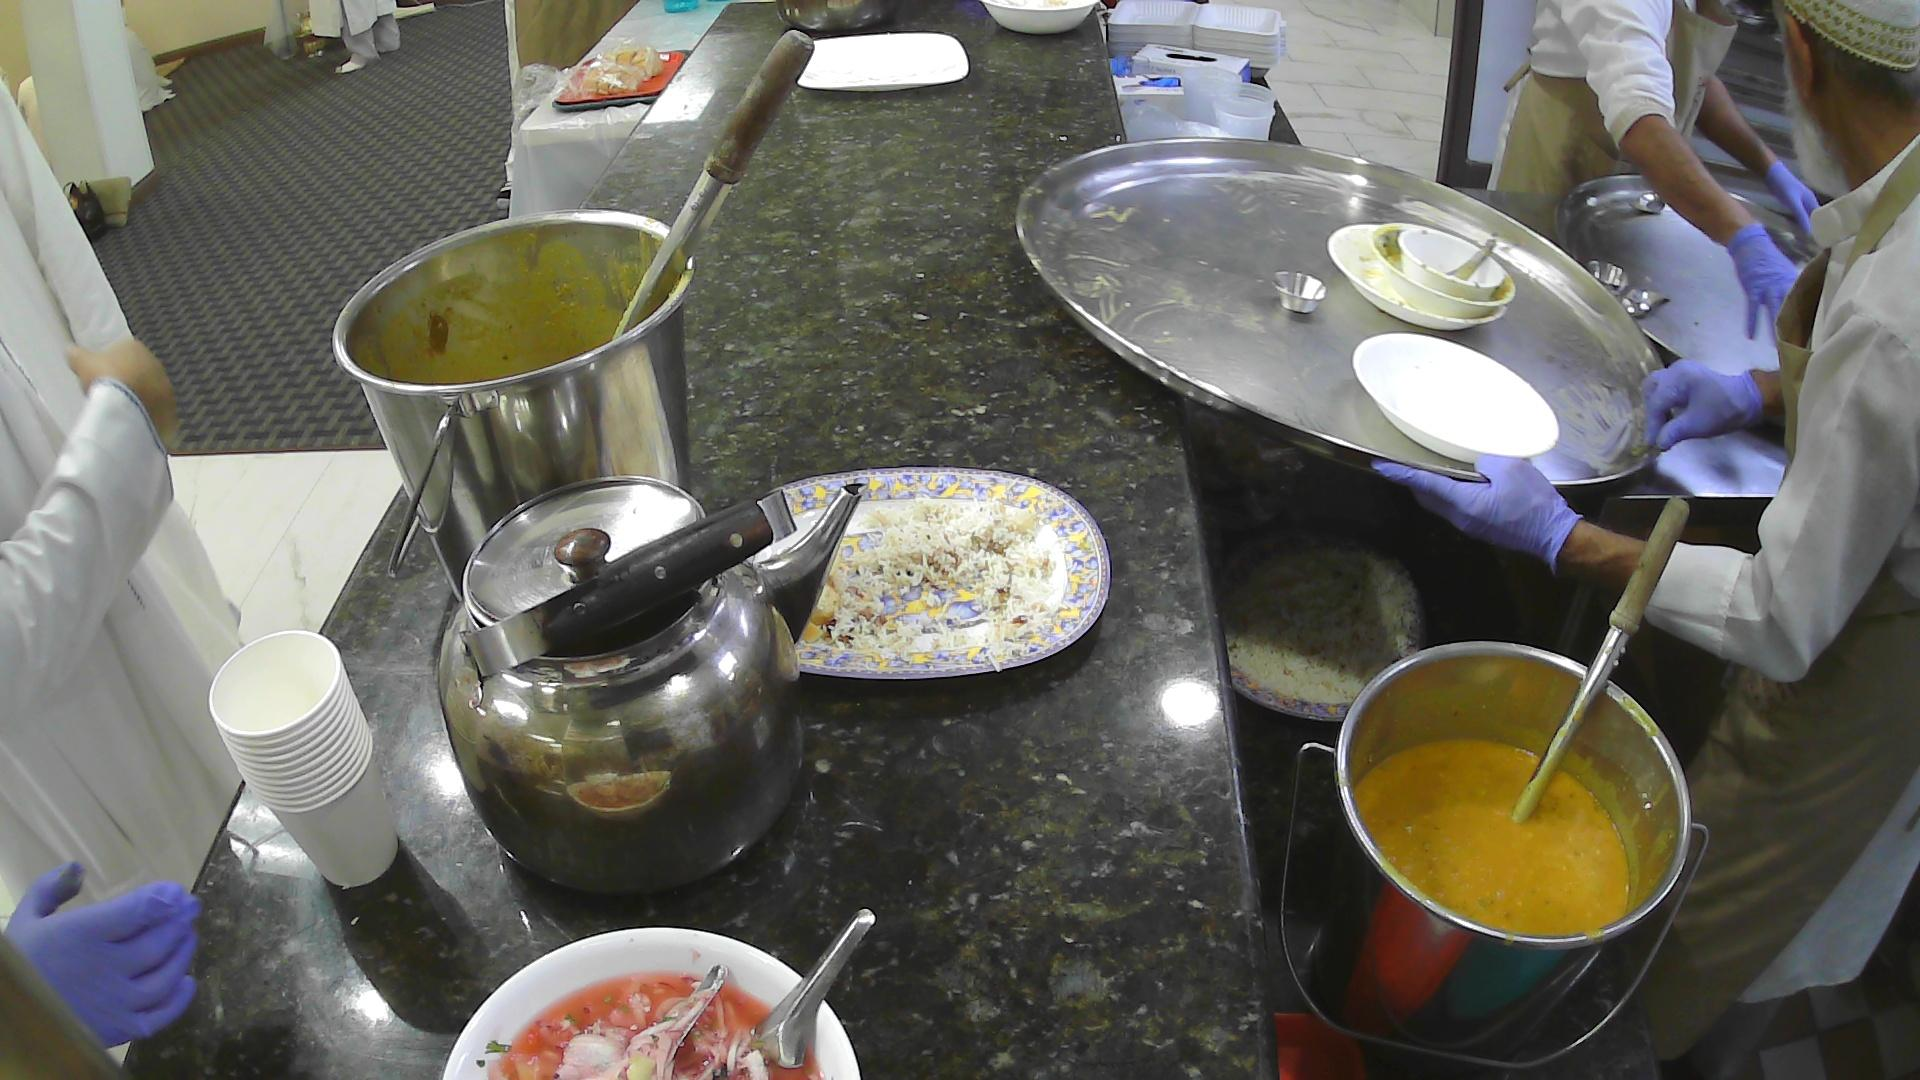thaal: (1011, 134, 1669, 500), (1550, 171, 1823, 379)
